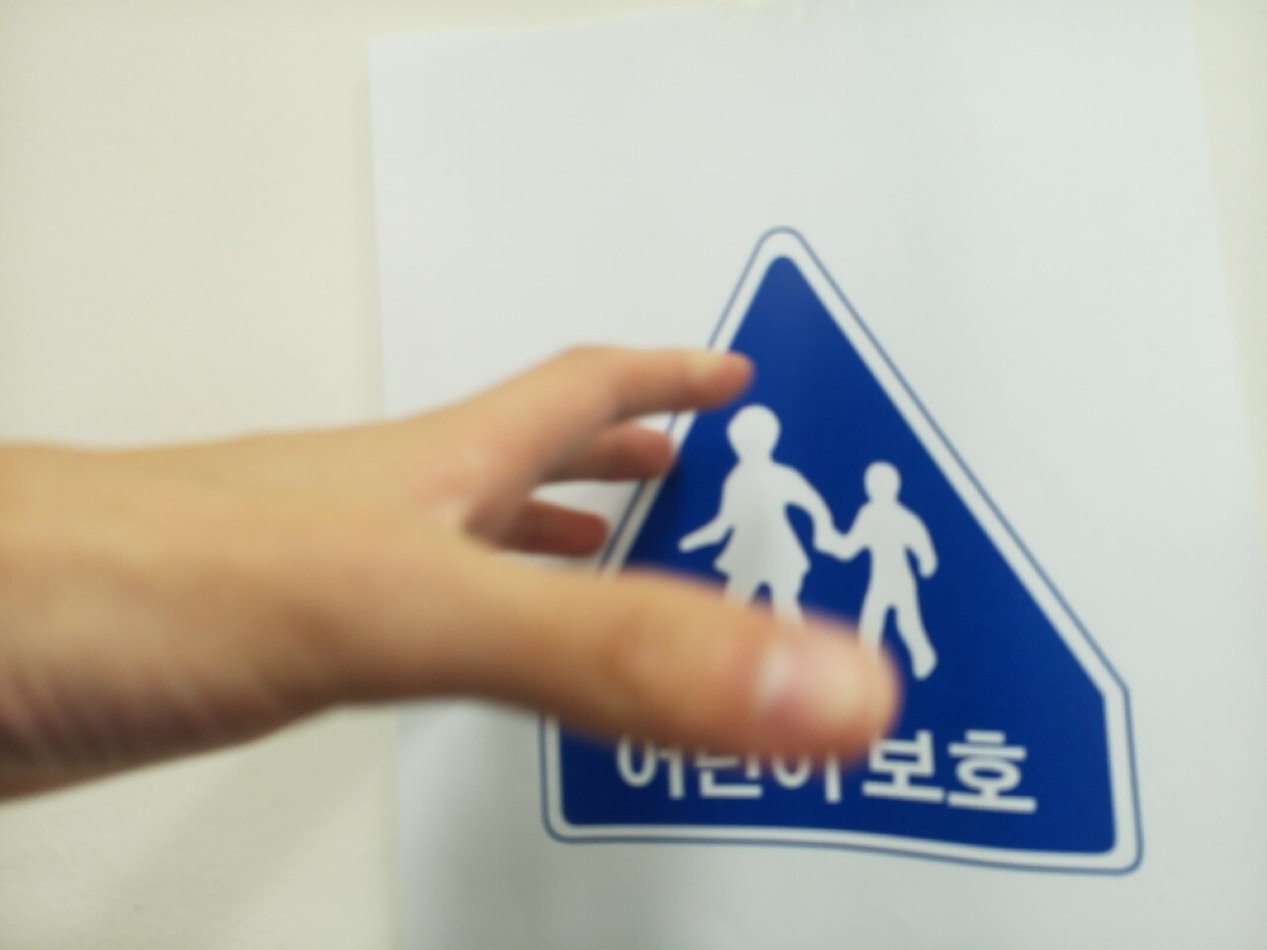school_zone: (545, 240, 1130, 870)
